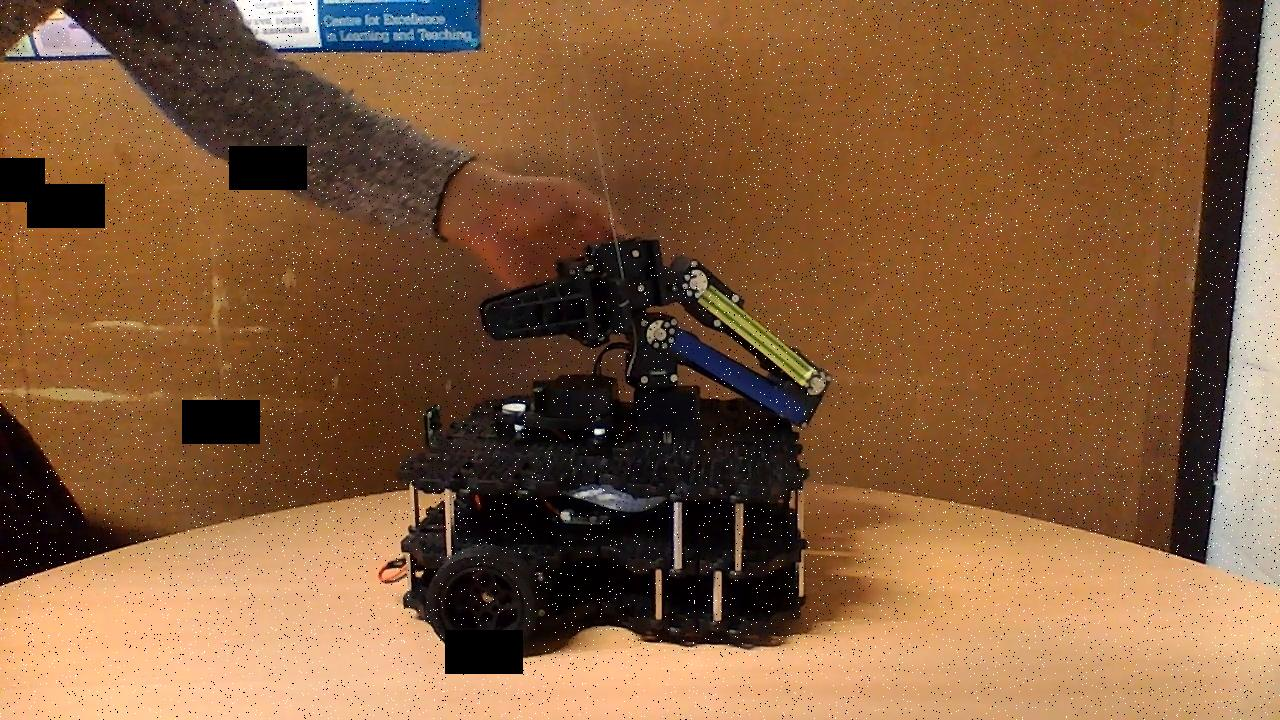Arm: (644, 315, 814, 431)
Hand: (475, 234, 680, 351)
Wrist: (682, 261, 829, 397)
base: (376, 371, 813, 662)
